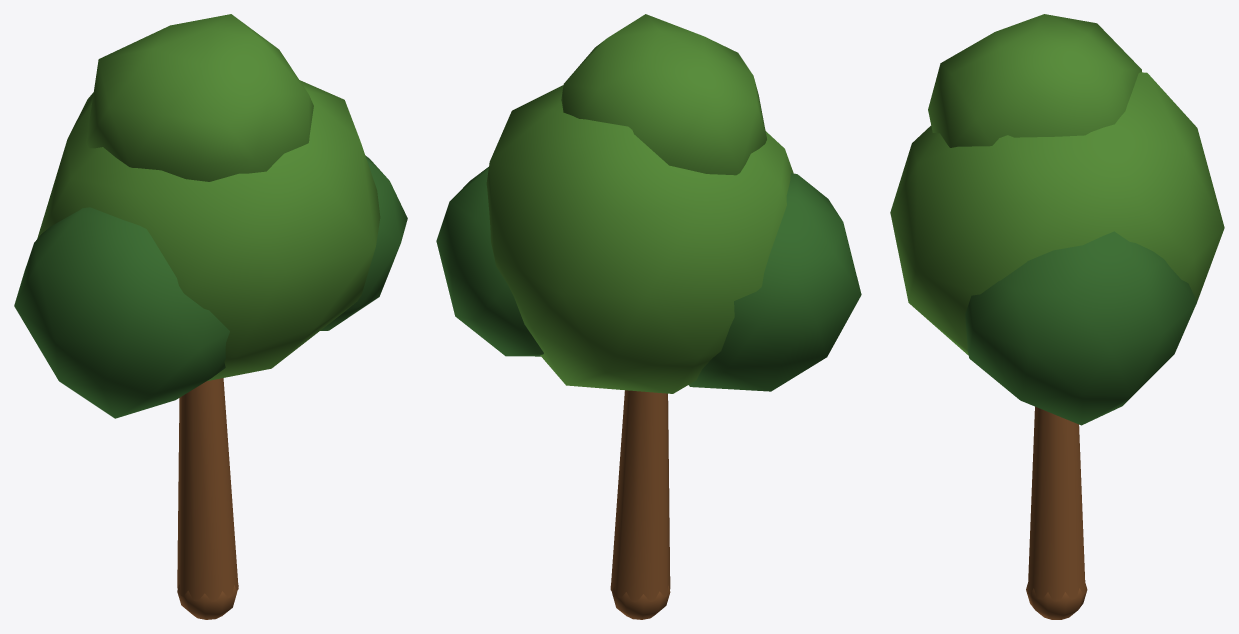
Rendered from tree_a.fbx.
The picture shows the model from 3 angles, left to right: view 1: azimuth 30°, elevation 25°; view 2: azimuth 150°, elevation 25°; view 3: azimuth 270°, elevation 25°; orthographic projection. The views are drawn at different scales.
Parts seen in each view (by area): view 1: tree_a; view 2: tree_a; view 3: tree_a.
Boxes of the visible parts, bbox=[...] form: tree_a: bbox=[14, 14, 407, 619]; tree_a: bbox=[436, 14, 861, 619]; tree_a: bbox=[890, 14, 1224, 619].
Size of the model in its own units: 2.54 by 3.85 by 1.99.
